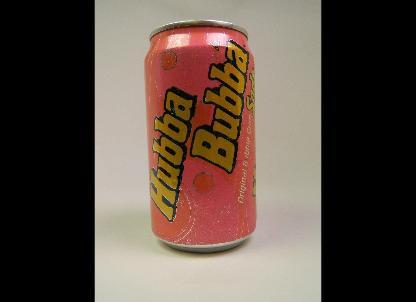Can: (144, 19, 258, 254)
